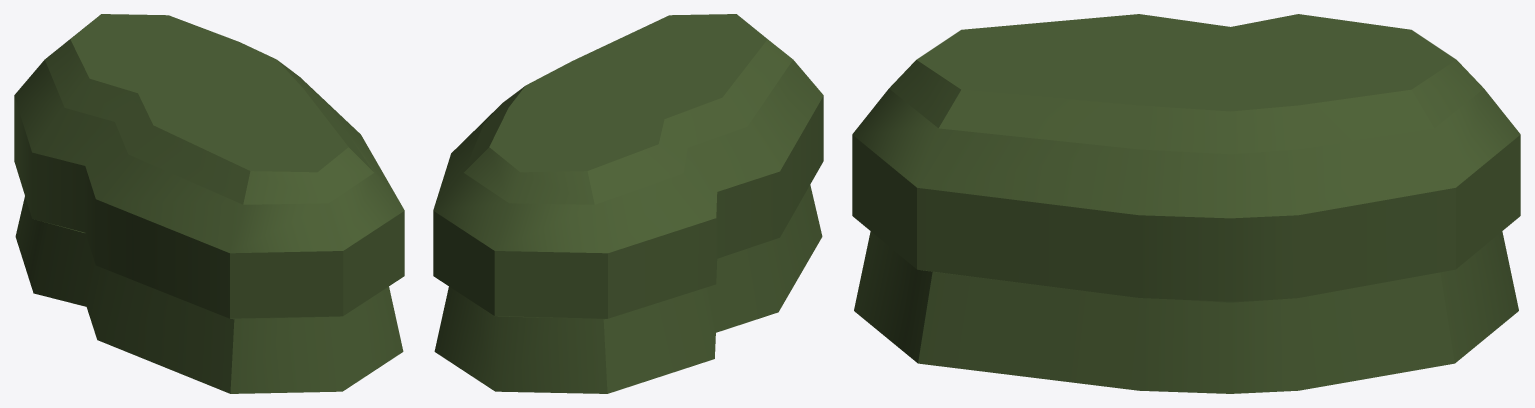
Rendered from Proto_Bush_01.fbx.
The picture shows the model from 3 angles, left to right: view 1: azimuth 30°, elevation 25°; view 2: azimuth 150°, elevation 25°; view 3: azimuth 270°, elevation 25°; orthographic projection. The views are drawn at different scales.
Visible parts, largest first — view 1: polySurface1269; view 2: polySurface1269; view 3: polySurface1269.
Boxes of the visible parts, bbox=[...] form: polySurface1269: bbox=[14, 14, 404, 393]; polySurface1269: bbox=[433, 14, 823, 393]; polySurface1269: bbox=[852, 14, 1520, 393].
Size of the model in its own units: 20.49 by 14.57 by 35.14.
